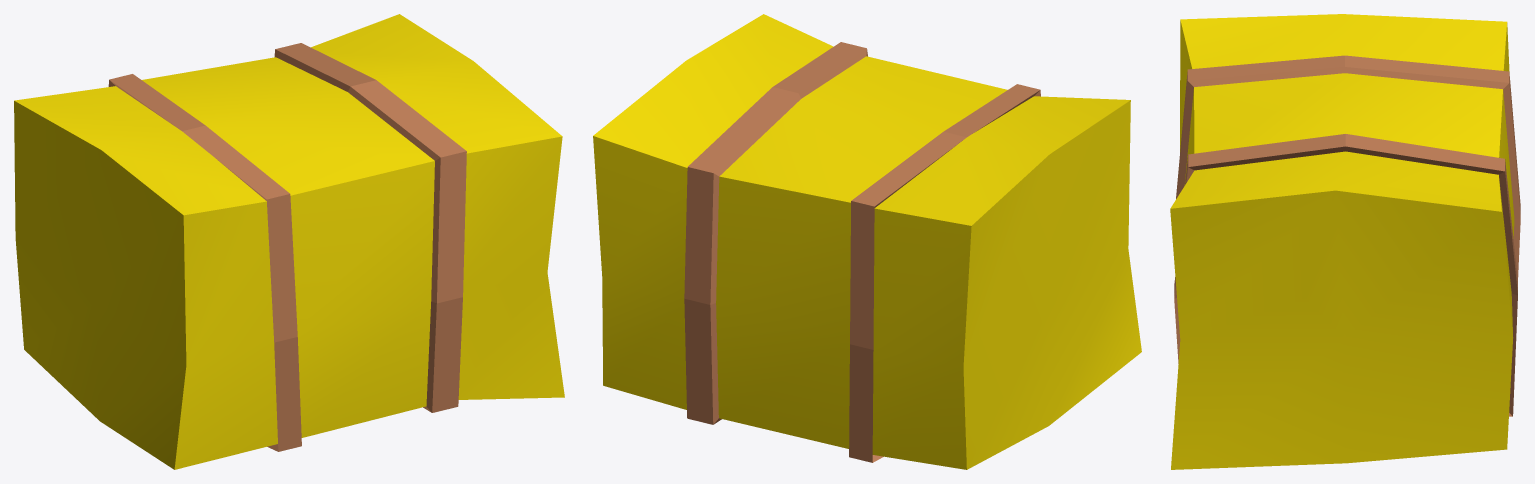
File: food.glb
3 views of the same model, side by side, from view 1: azimuth 30°, elevation 25°; view 2: azimuth 150°, elevation 25°; view 3: azimuth 270°, elevation 25° (orthographic).
Parts seen in each view (by area): view 1: Haystack; view 2: Haystack; view 3: Haystack.
Boxes of the visible parts, bbox=[...] form: Haystack: bbox=[14, 14, 564, 469]; Haystack: bbox=[593, 14, 1141, 469]; Haystack: bbox=[1170, 14, 1520, 469].
Size of the model in its own units: 1.07 by 0.7405 by 0.8413.
